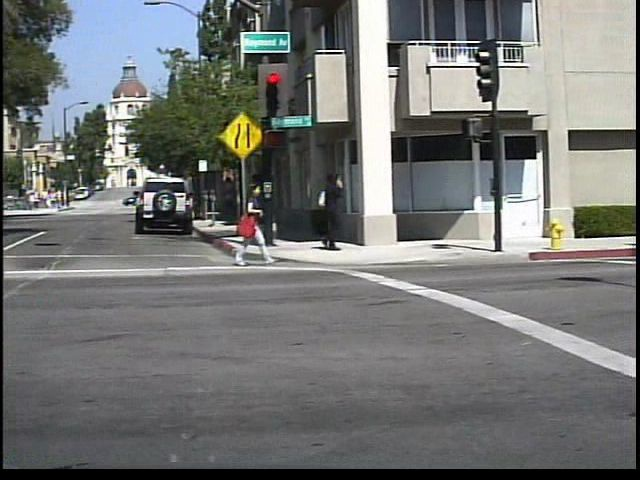person: (236, 177, 287, 268), (316, 168, 356, 254)
